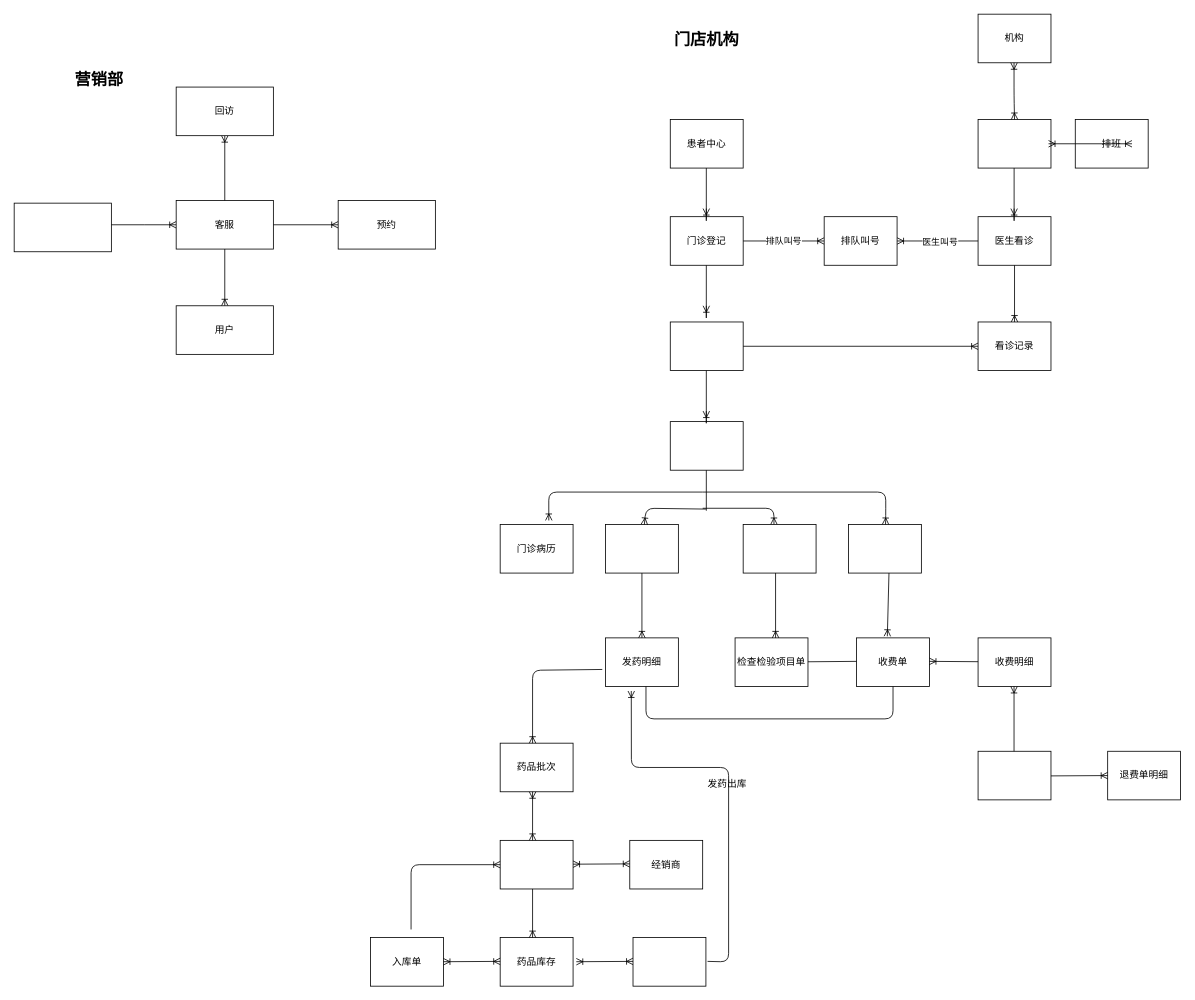
The diagram is 1195 pixels wide and 1000 high, and some of its shapes have lost their labels. The centre of each missing label's shape, as x and y in pixels:
"出库单" belongs at point 669,961.
"医生" belongs at point 1014,143.
"客服组长" belongs at point 62,227.
"患者" belongs at point 706,346.
"收费记录" belongs at point 884,548.
"检查检验" belongs at point 779,548.
"药品" belongs at point 536,864.
"退费" belongs at point 1014,775.
"门诊处方" belongs at point 641,548.
"门诊记录" belongs at point 706,445.
